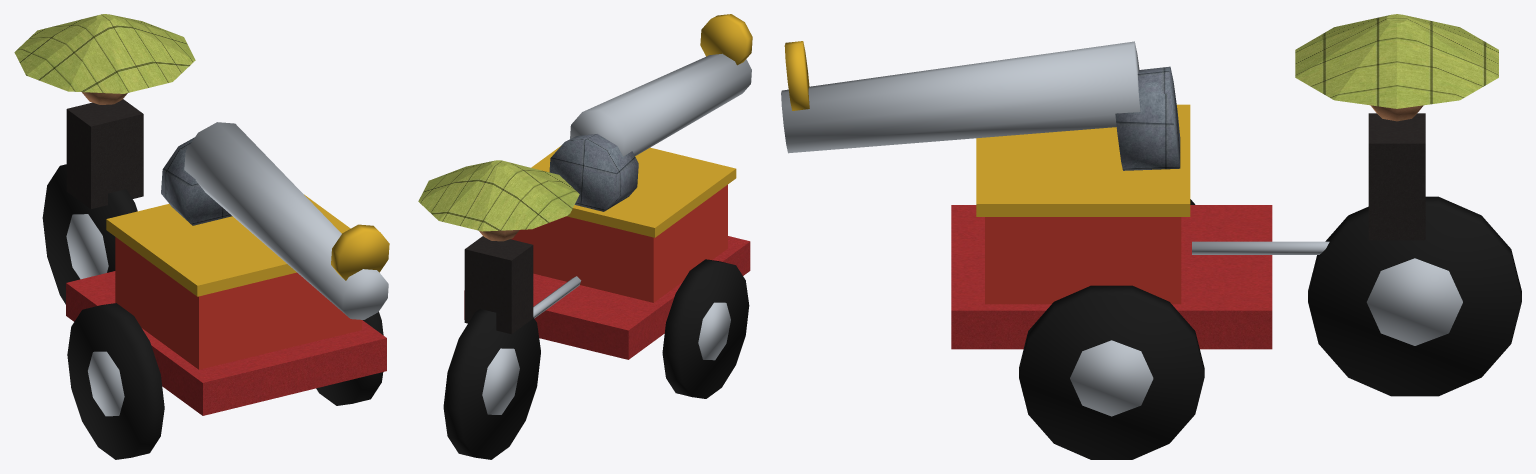
The model's file is siege_jawa.glb.
The picture shows the model from 3 angles, left to right: view 1: azimuth 30°, elevation 25°; view 2: azimuth 150°, elevation 25°; view 3: azimuth 270°, elevation 25°; orthographic projection. The views are drawn at different scales.
Parts seen in each view (by area): view 1: siege_jawa; view 2: siege_jawa; view 3: siege_jawa.
Boxes of the visible parts, x1,y1,x2,y2 form: siege_jawa: (14,14,389,459); siege_jawa: (418,14,752,459); siege_jawa: (781,14,1521,459).
Size of the model in its own units: 0.92 by 1.15 by 2.08.
Materials: 9 (5 with a texture image).
